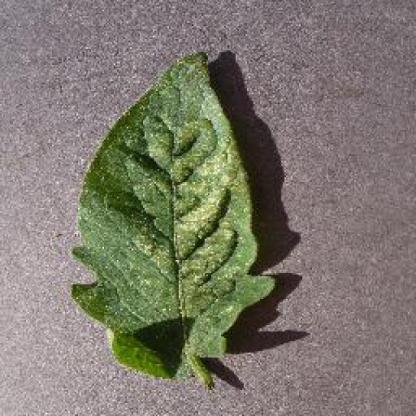Tomato_Spider_Mites: (73, 53, 275, 376)
